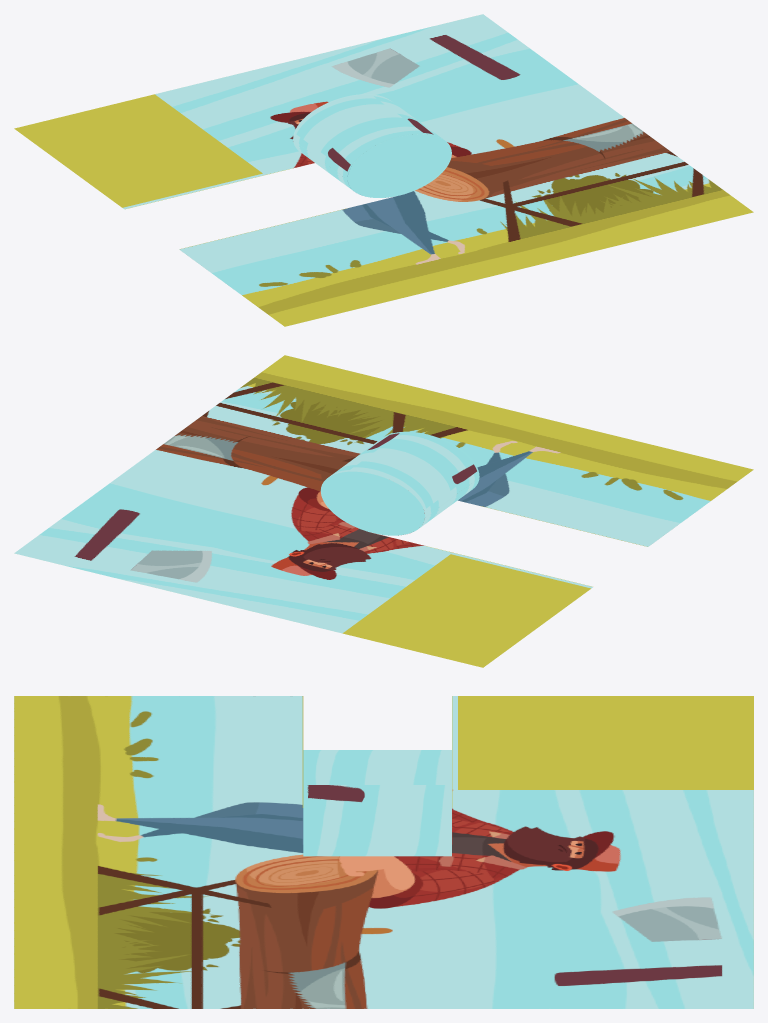
Rendered from Level 58.fbx.
3 renders of one model, top to bottom at view 1: azimuth 30°, elevation 25°; view 2: azimuth 150°, elevation 25°; view 3: azimuth 270°, elevation 25°, orthographic. The views are drawn at different scales.
Parts seen in each view (by area): view 1: background, drum10; view 2: background, drum10; view 3: background, drum10.
Part boxes in pixels (left/top/right/bottom): background: left=14, top=14, right=753, bottom=326; drum10: left=293, top=94, right=451, bottom=197; background: left=14, top=355, right=753, bottom=667; drum10: left=320, top=431, right=479, bottom=535; background: left=14, top=696, right=753, bottom=1008; drum10: left=303, top=750, right=451, bottom=856.
Bounding box in the file's own units: 2400 × 288 × 2400.
